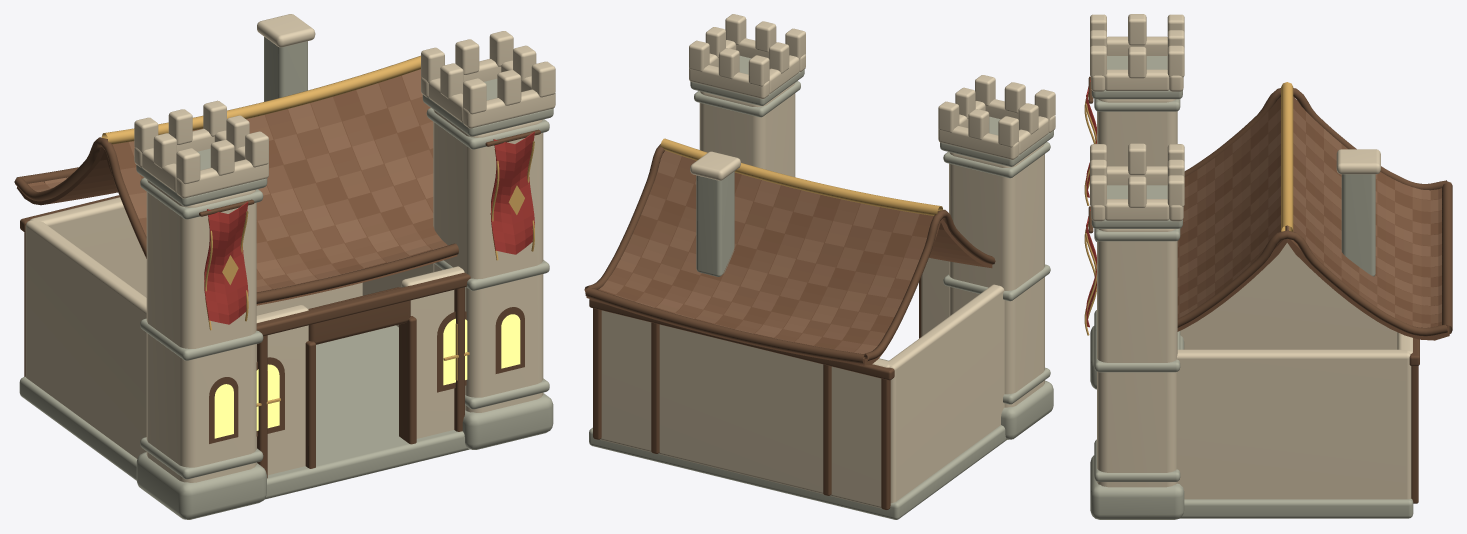
The model's file is hall.glb.
The picture shows the model from 3 angles, left to right: view 1: azimuth 30°, elevation 25°; view 2: azimuth 150°, elevation 25°; view 3: azimuth 270°, elevation 25°; orthographic projection. The views are drawn at different scales.
Visible parts, largest first — view 1: hall-artist-mesh; view 2: hall-artist-mesh; view 3: hall-artist-mesh.
Boxes of the visible parts, box(x1,y1,x2,y2) form: hall-artist-mesh: box(14, 14, 555, 519); hall-artist-mesh: box(584, 14, 1055, 519); hall-artist-mesh: box(1084, 14, 1452, 519).
Bounding box in the file's own units: 5.89 × 5.54 × 5.41.
